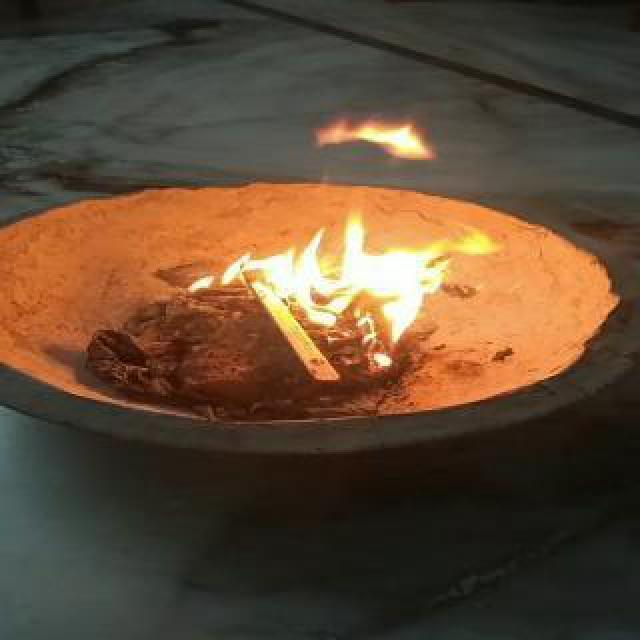Fire: (176, 208, 520, 350), (296, 106, 466, 170)
